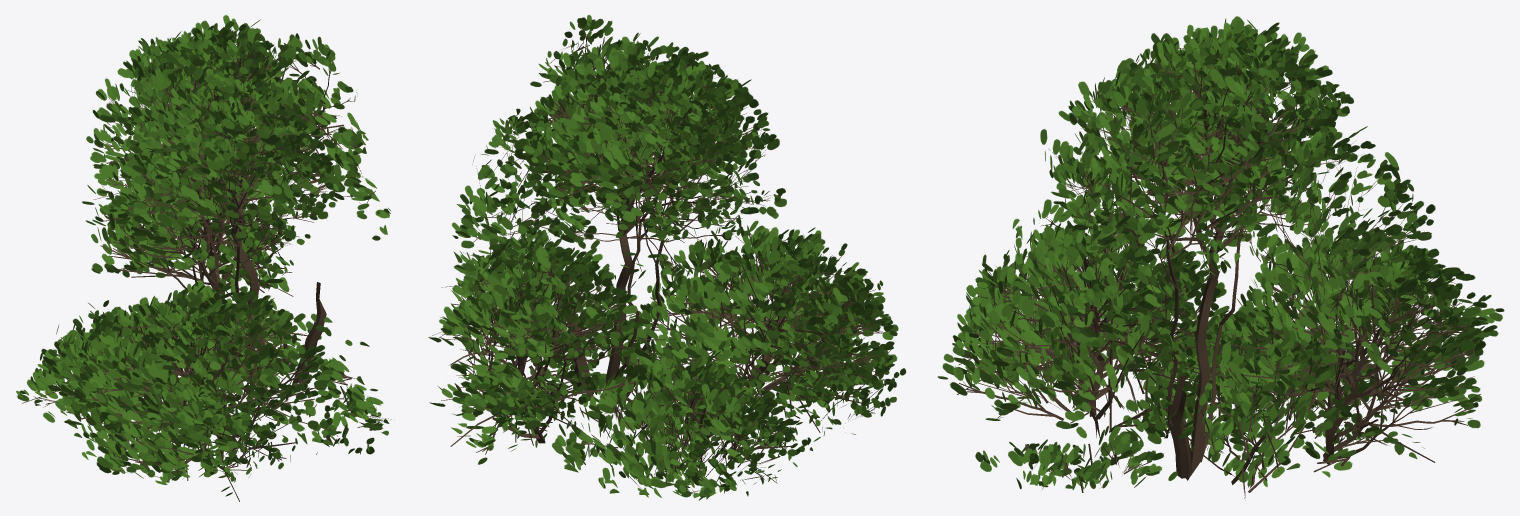
The picture shows the model from 3 angles, left to right: view 1: azimuth 30°, elevation 25°; view 2: azimuth 150°, elevation 25°; view 3: azimuth 270°, elevation 25°; orthographic projection. The views are drawn at different scales.
Visible parts, largest first — view 1: oak 01.001_trunk_Mat.001_0.469; view 2: oak 01.001_trunk_Mat.001_0.469; view 3: oak 01.001_trunk_Mat.001_0.469.
Boxes of the visible parts, x1,y1,x2,y2 form: oak 01.001_trunk_Mat.001_0.469: (16,15,391,501); oak 01.001_trunk_Mat.001_0.469: (428,14,906,500); oak 01.001_trunk_Mat.001_0.469: (937,16,1504,500).
Bounding box in the file's own units: 3.92 × 4.67 × 5.54.
2 materials, 1 textured.
